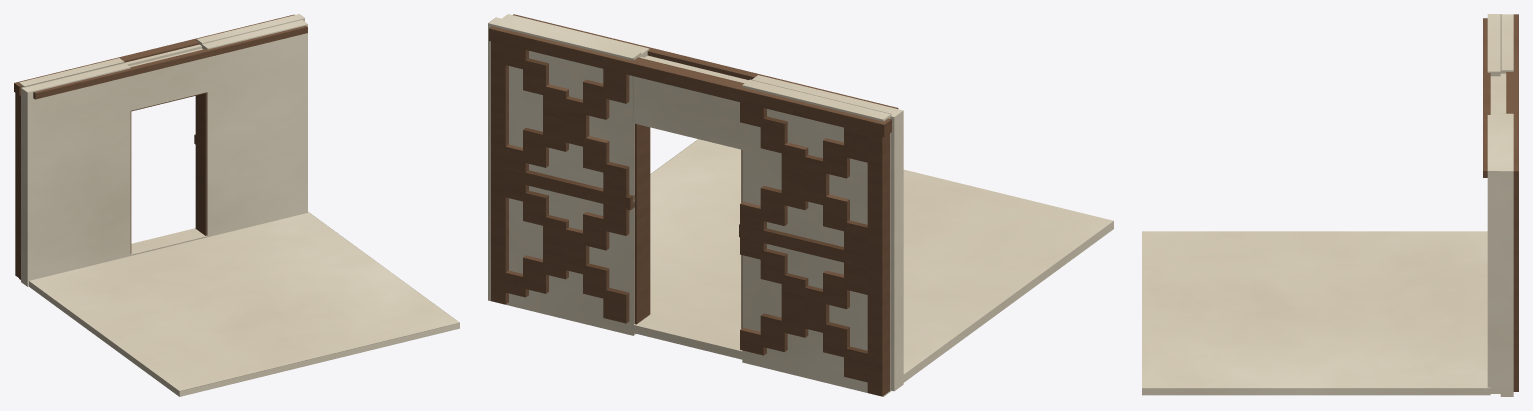
Rendered from med_door.glb.
3 views of the same model, side by side, from view 1: azimuth 30°, elevation 25°; view 2: azimuth 150°, elevation 25°; view 3: azimuth 270°, elevation 25° (orthographic). The views are drawn at different scales.
Visible parts, largest first — view 1: med_door; view 2: med_door; view 3: med_door.
Boxes of the visible parts, x1=… form: med_door: x1=14, y1=14, x2=459, y2=396; med_door: x1=488, y1=14, x2=1113, y2=396; med_door: x1=1142, y1=14, x2=1518, y2=396.
Size of the model in its own units: 4.04 by 2.68 by 4.06.
1 material, 1 textured.
